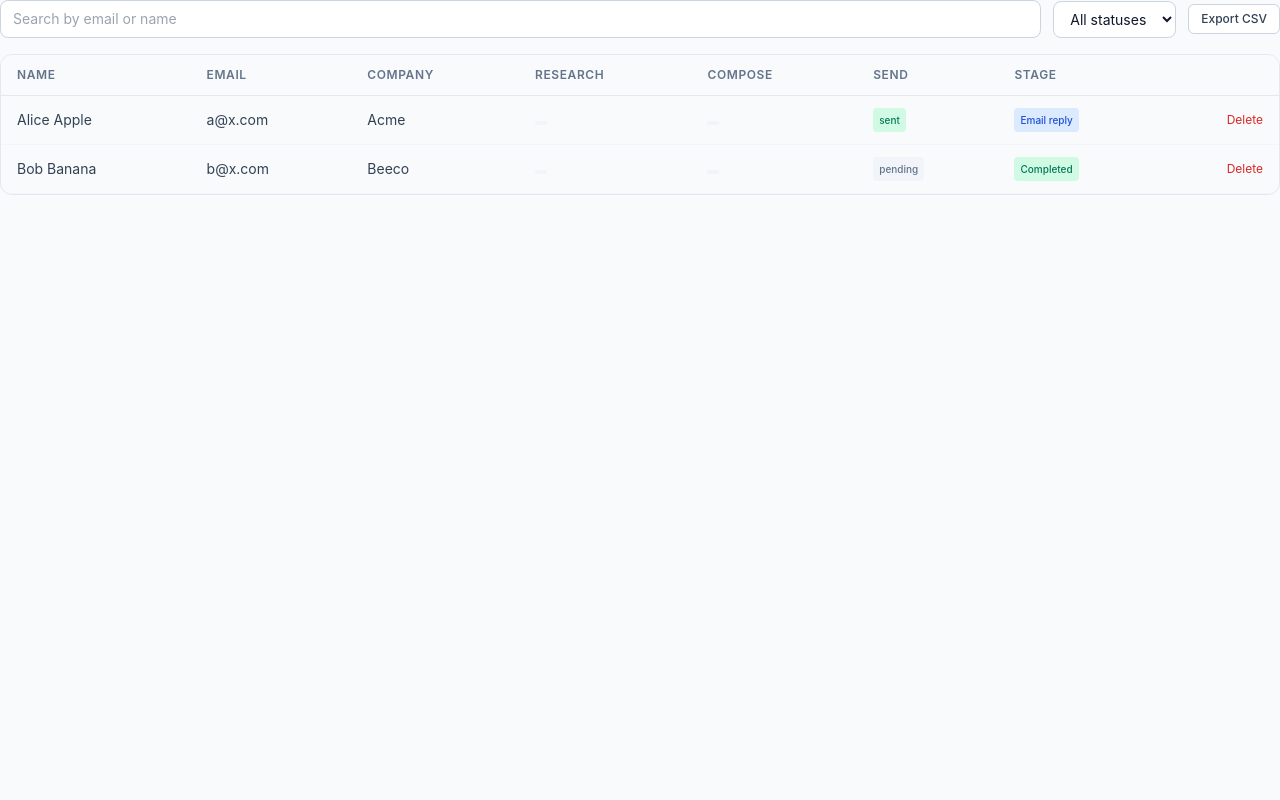
Test: LeadTable › Cancel closes the modal without firing the delete
The width and height of the screenshot is (1280, 800).
Expected: the text "Alice Apple" is shown, [1,96,191,144]
Click the button with test id "delete-lead-l1".
click(1245, 120)  # box [1227,112,1263,128]
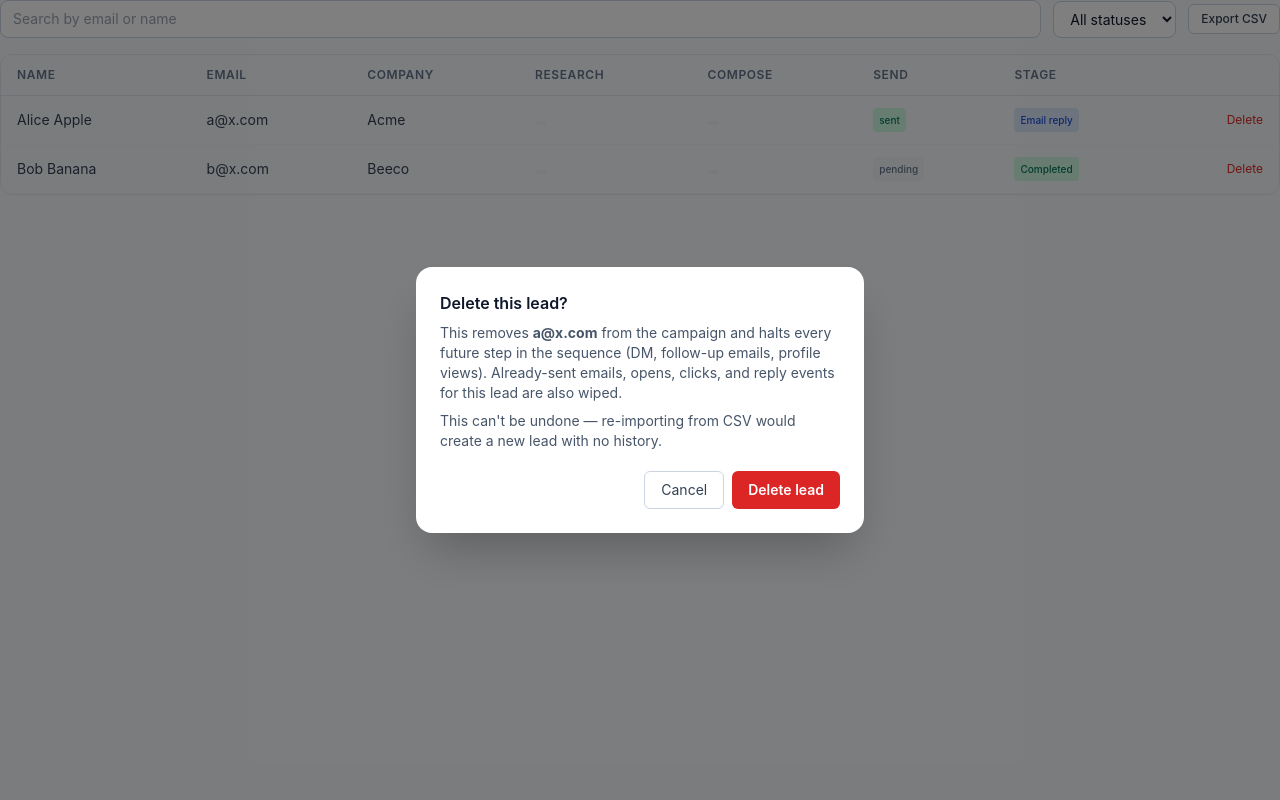
Now the element with test id "delete-lead-modal" is shown, box [416,267,864,533]
Click the button "Cancel".
click(684, 490)  # box [644,471,724,509]
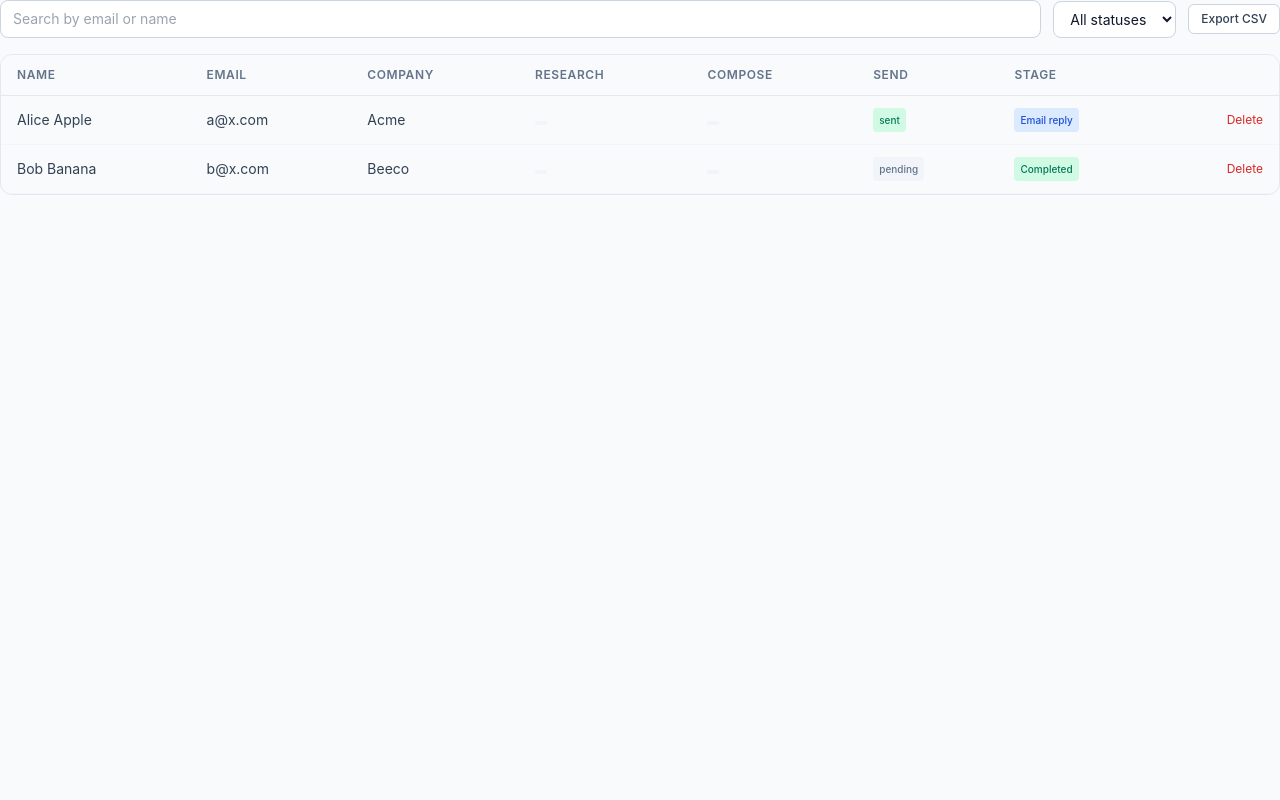
Now the element with test id "delete-lead-modal" is gone
